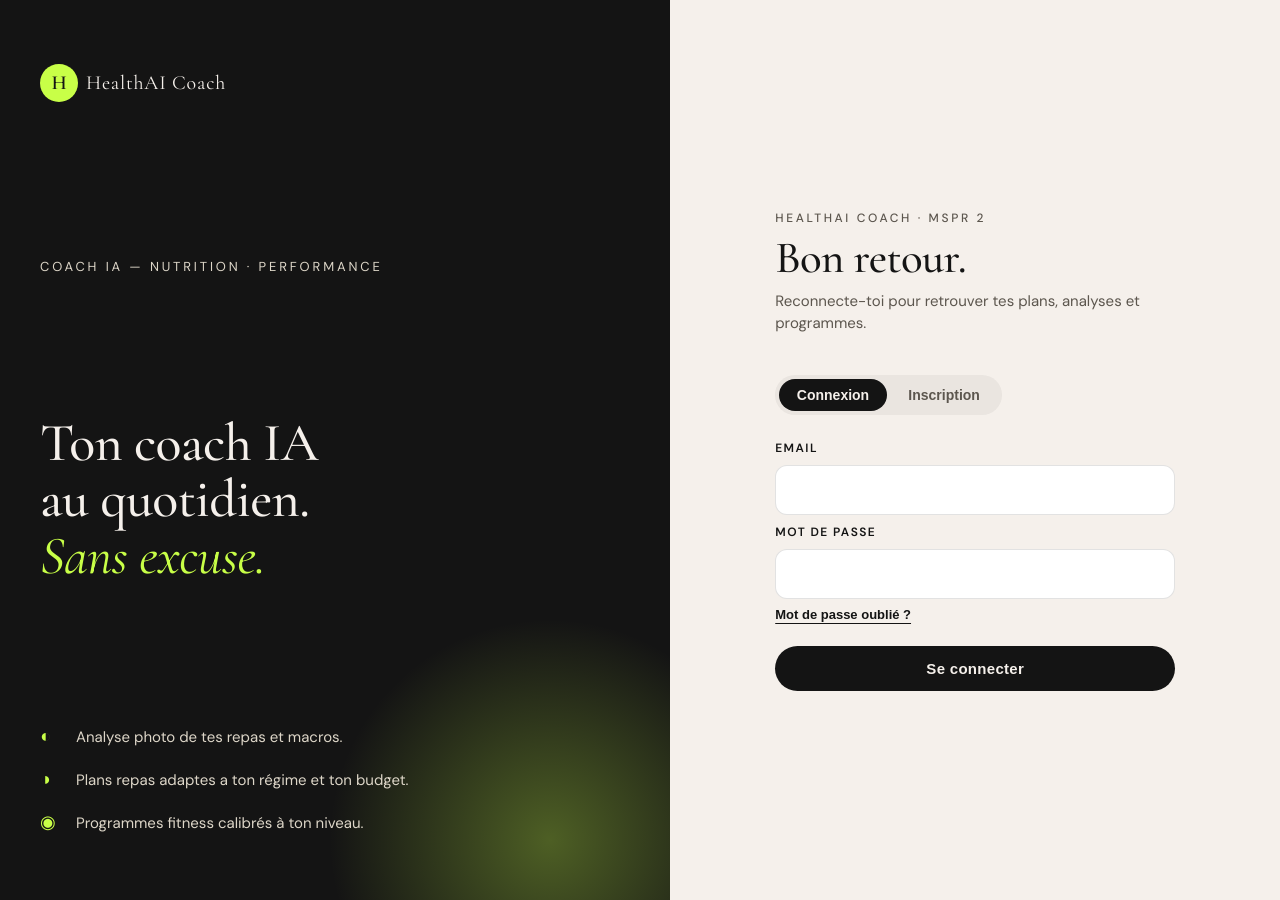
AuthView › bascule vers le formulaire mot de passe oublié et retour
Click the button with class "inline-link": [843, 614] box [775,607,911,622]
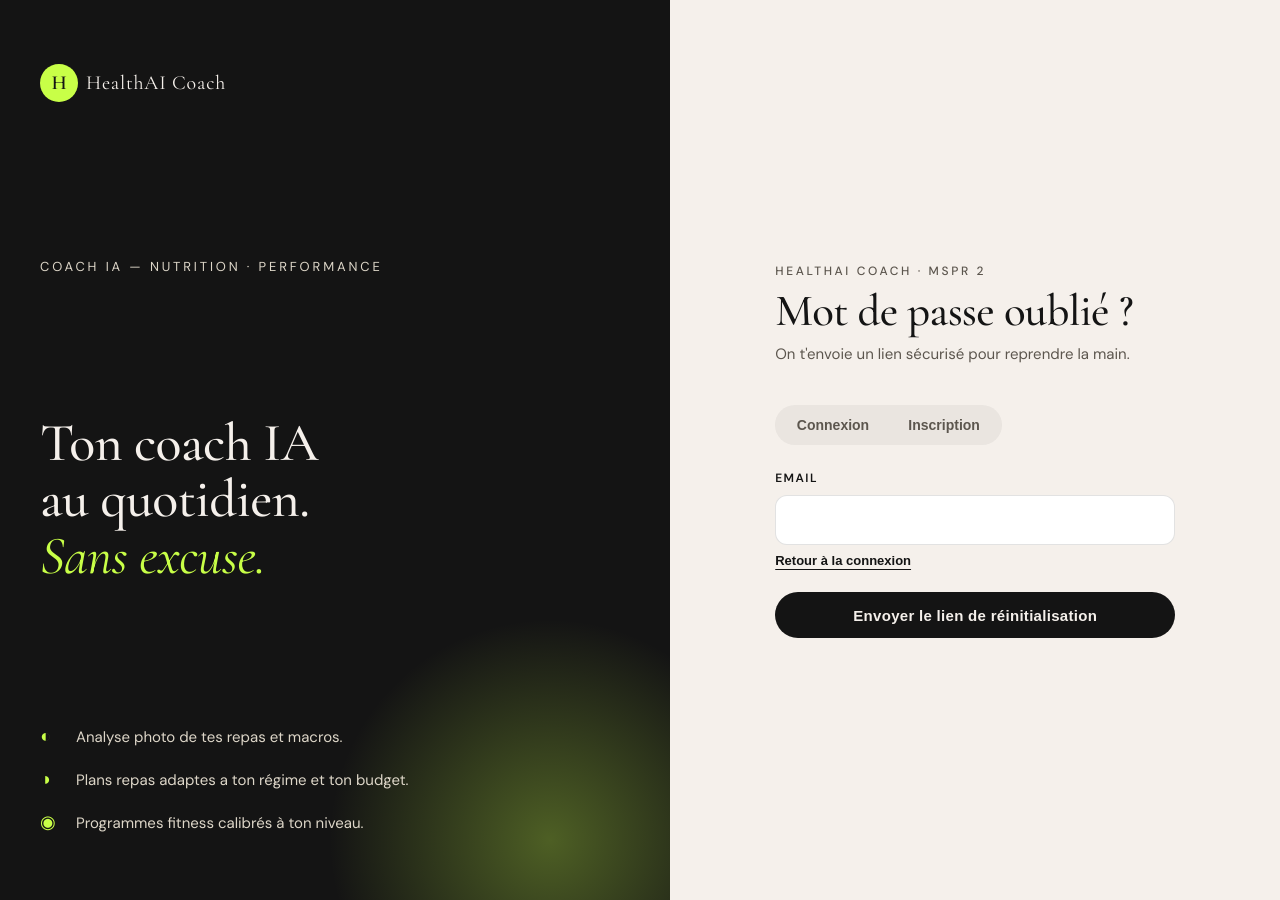
Expected: the text "Mot de passe oublié ?" is shown, [775,288,1175,335]
Now the field with id "forgot-email" is shown, box [775,495,1175,545]
Click the button with class "inline-link": [843, 561] box [775,553,911,568]
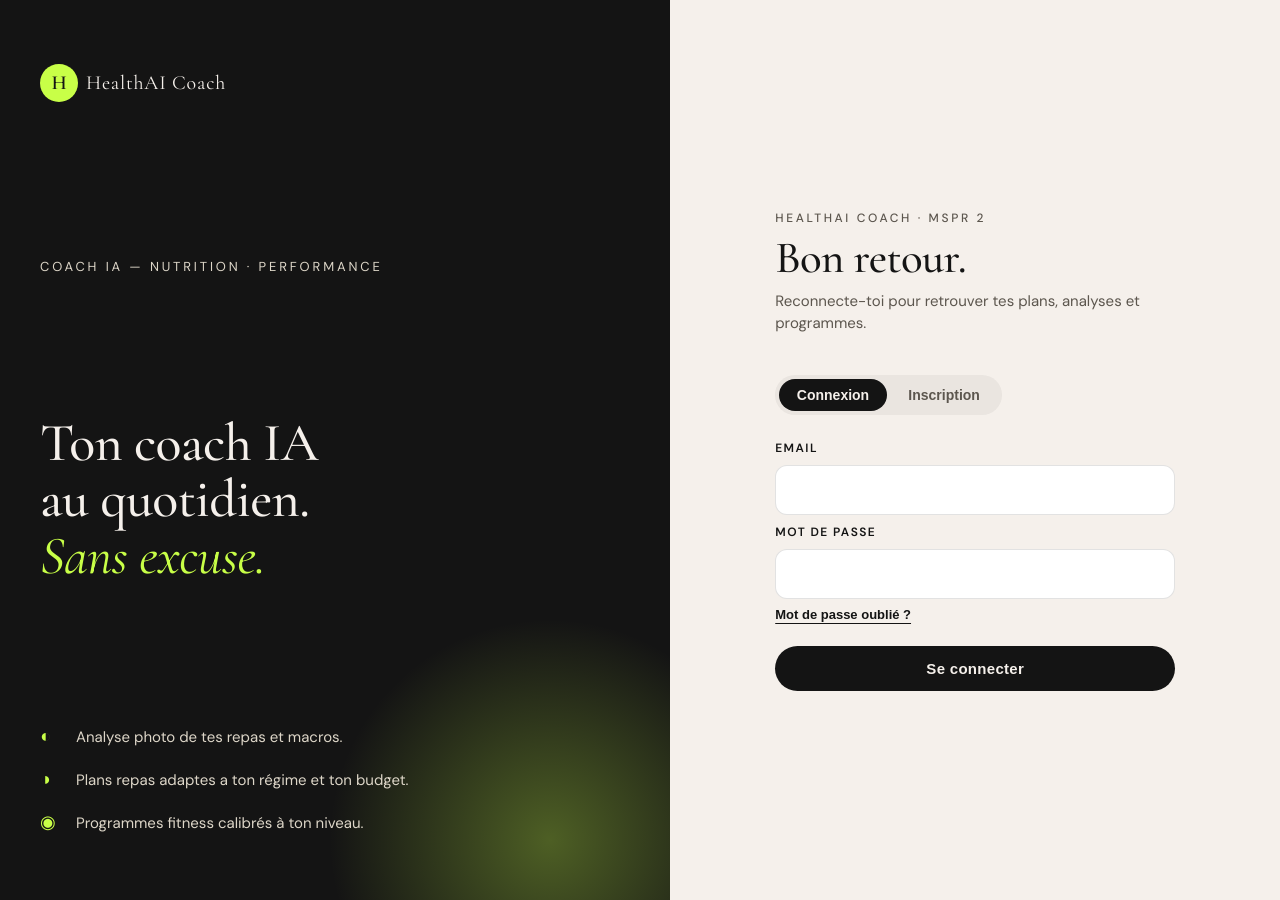
Now the field with id "login-email" is shown, box [775,465,1175,515]
